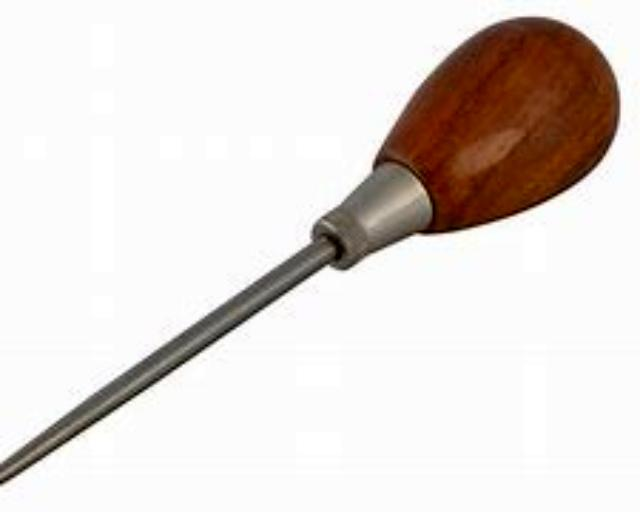ice pick: (0, 20, 622, 494)
